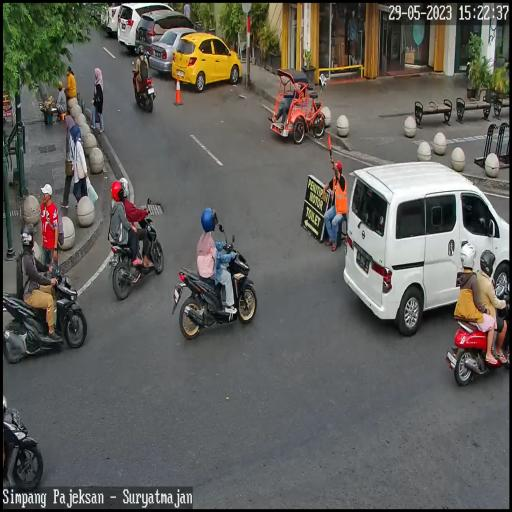mobil: (343, 159, 512, 335), (172, 29, 244, 92), (135, 13, 200, 66), (120, 2, 174, 48), (150, 29, 200, 75)
motor: (174, 230, 256, 340), (3, 252, 86, 356), (448, 279, 512, 382), (108, 210, 164, 304), (130, 58, 156, 114)
